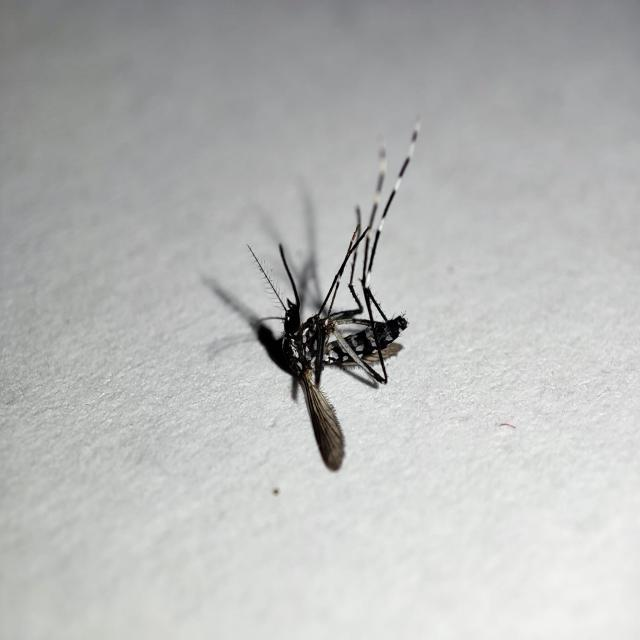albopictus: (203, 127, 434, 468)
